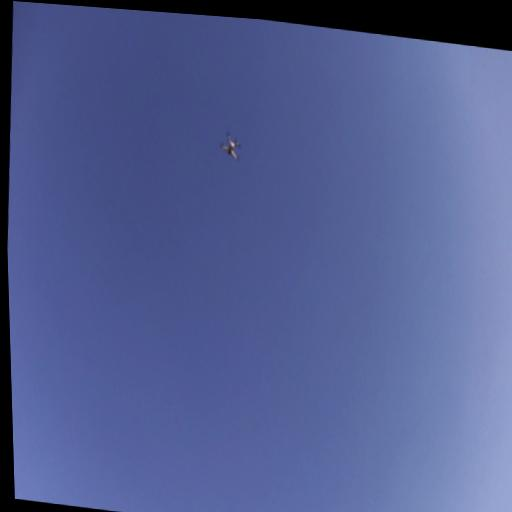drones: (215, 129, 244, 167)
